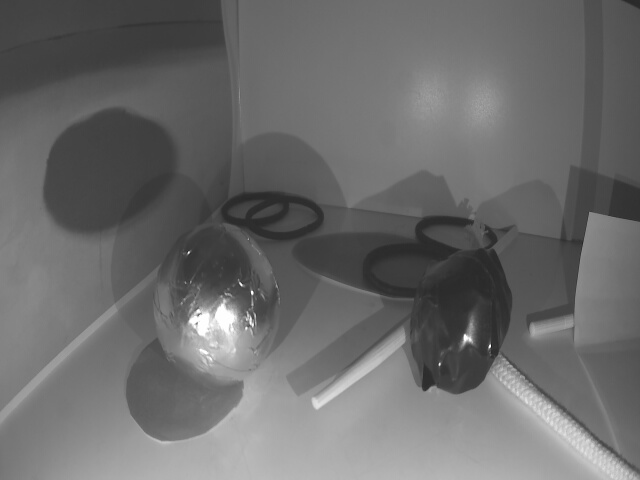Dead: (410, 249, 514, 393)
Live: (150, 226, 283, 383)
